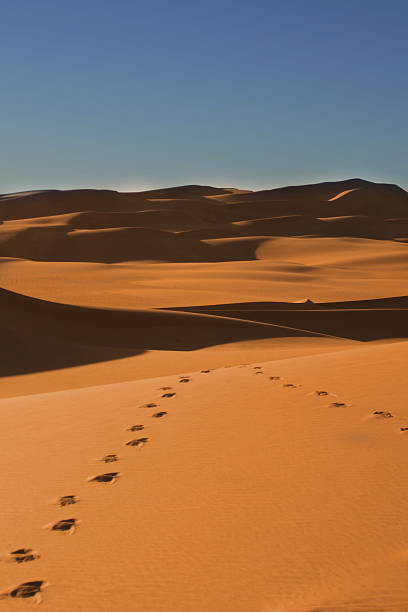animal_footprint: (0, 580, 46, 603), (47, 518, 78, 534), (8, 548, 39, 563), (88, 472, 119, 483), (143, 396, 164, 408), (57, 495, 78, 506), (125, 437, 148, 446), (372, 410, 392, 417), (101, 454, 118, 462), (127, 424, 143, 431), (152, 411, 167, 417), (330, 401, 345, 406), (315, 390, 328, 395), (162, 392, 175, 397), (178, 377, 190, 382), (283, 383, 295, 387), (160, 386, 171, 390), (200, 369, 210, 373), (269, 376, 280, 379), (400, 427, 407, 431), (253, 366, 261, 369)
